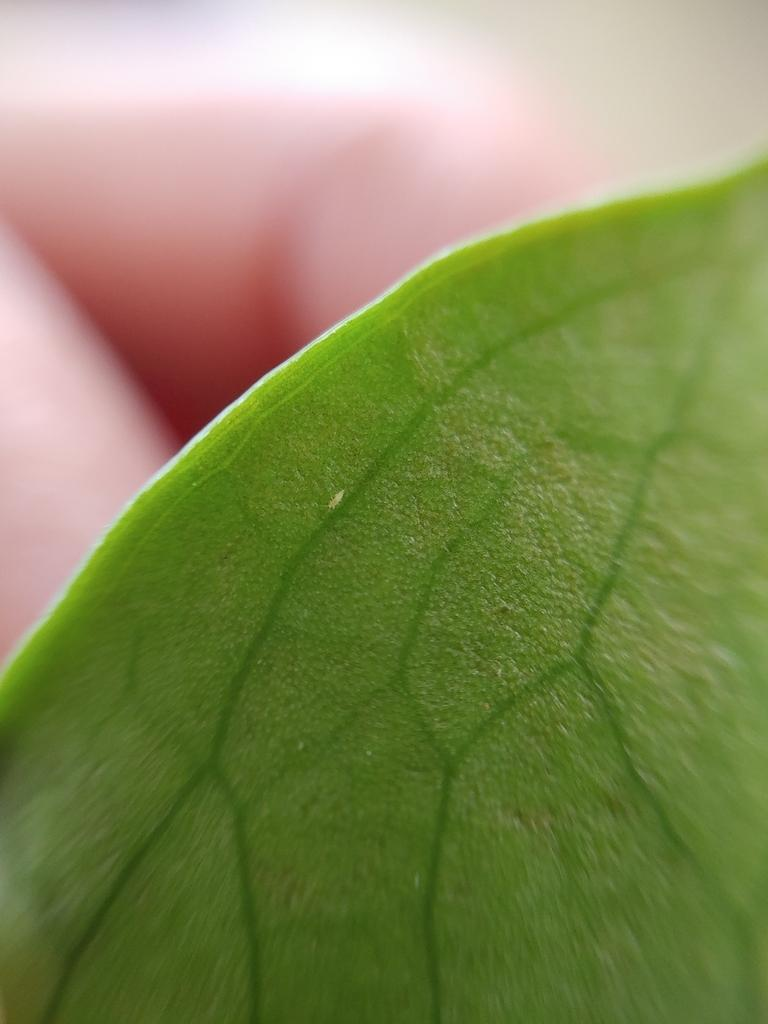tiny_pests: (313, 476, 360, 517)
